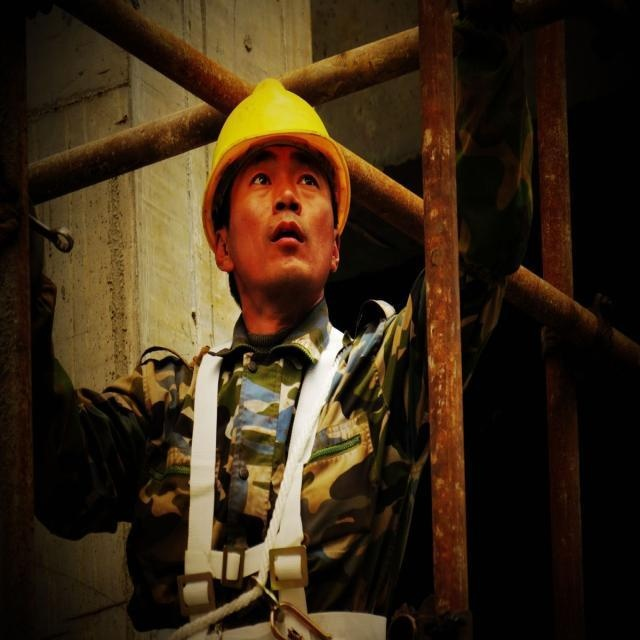Arnes_seguridad: (172, 319, 391, 639)
